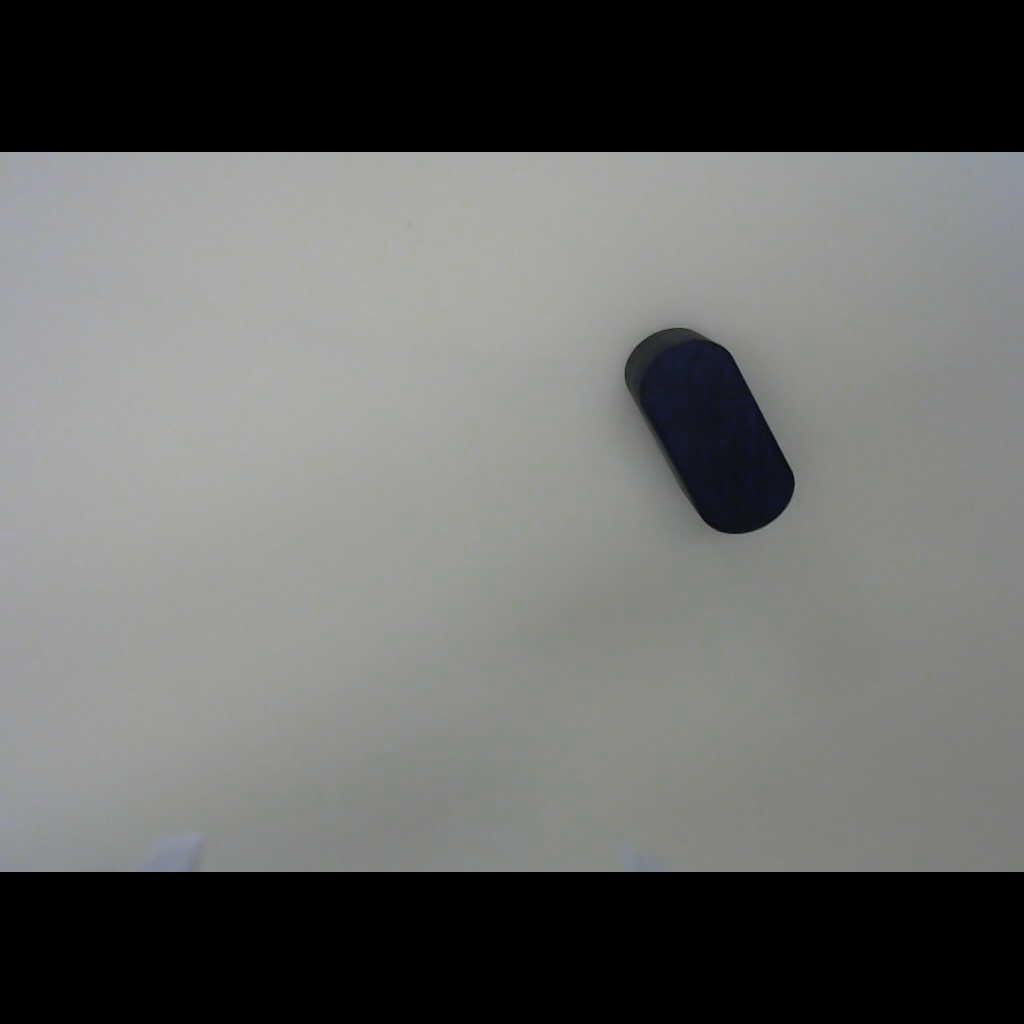oval: (595, 293, 823, 566)
